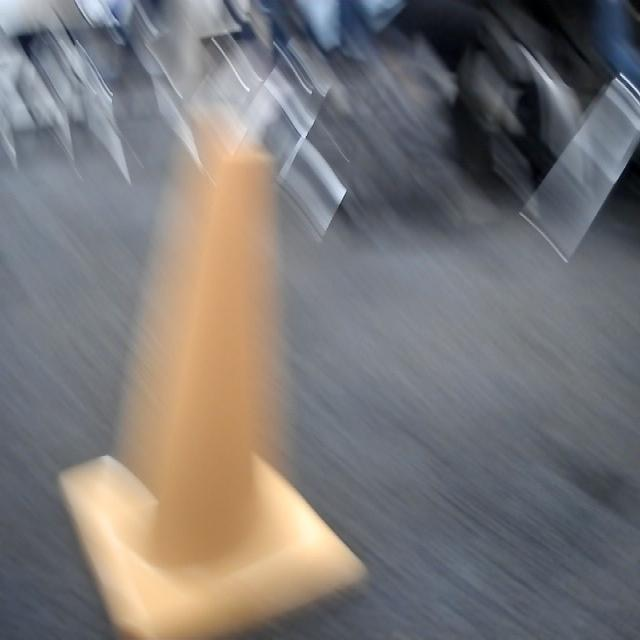cone: (61, 105, 370, 640)
